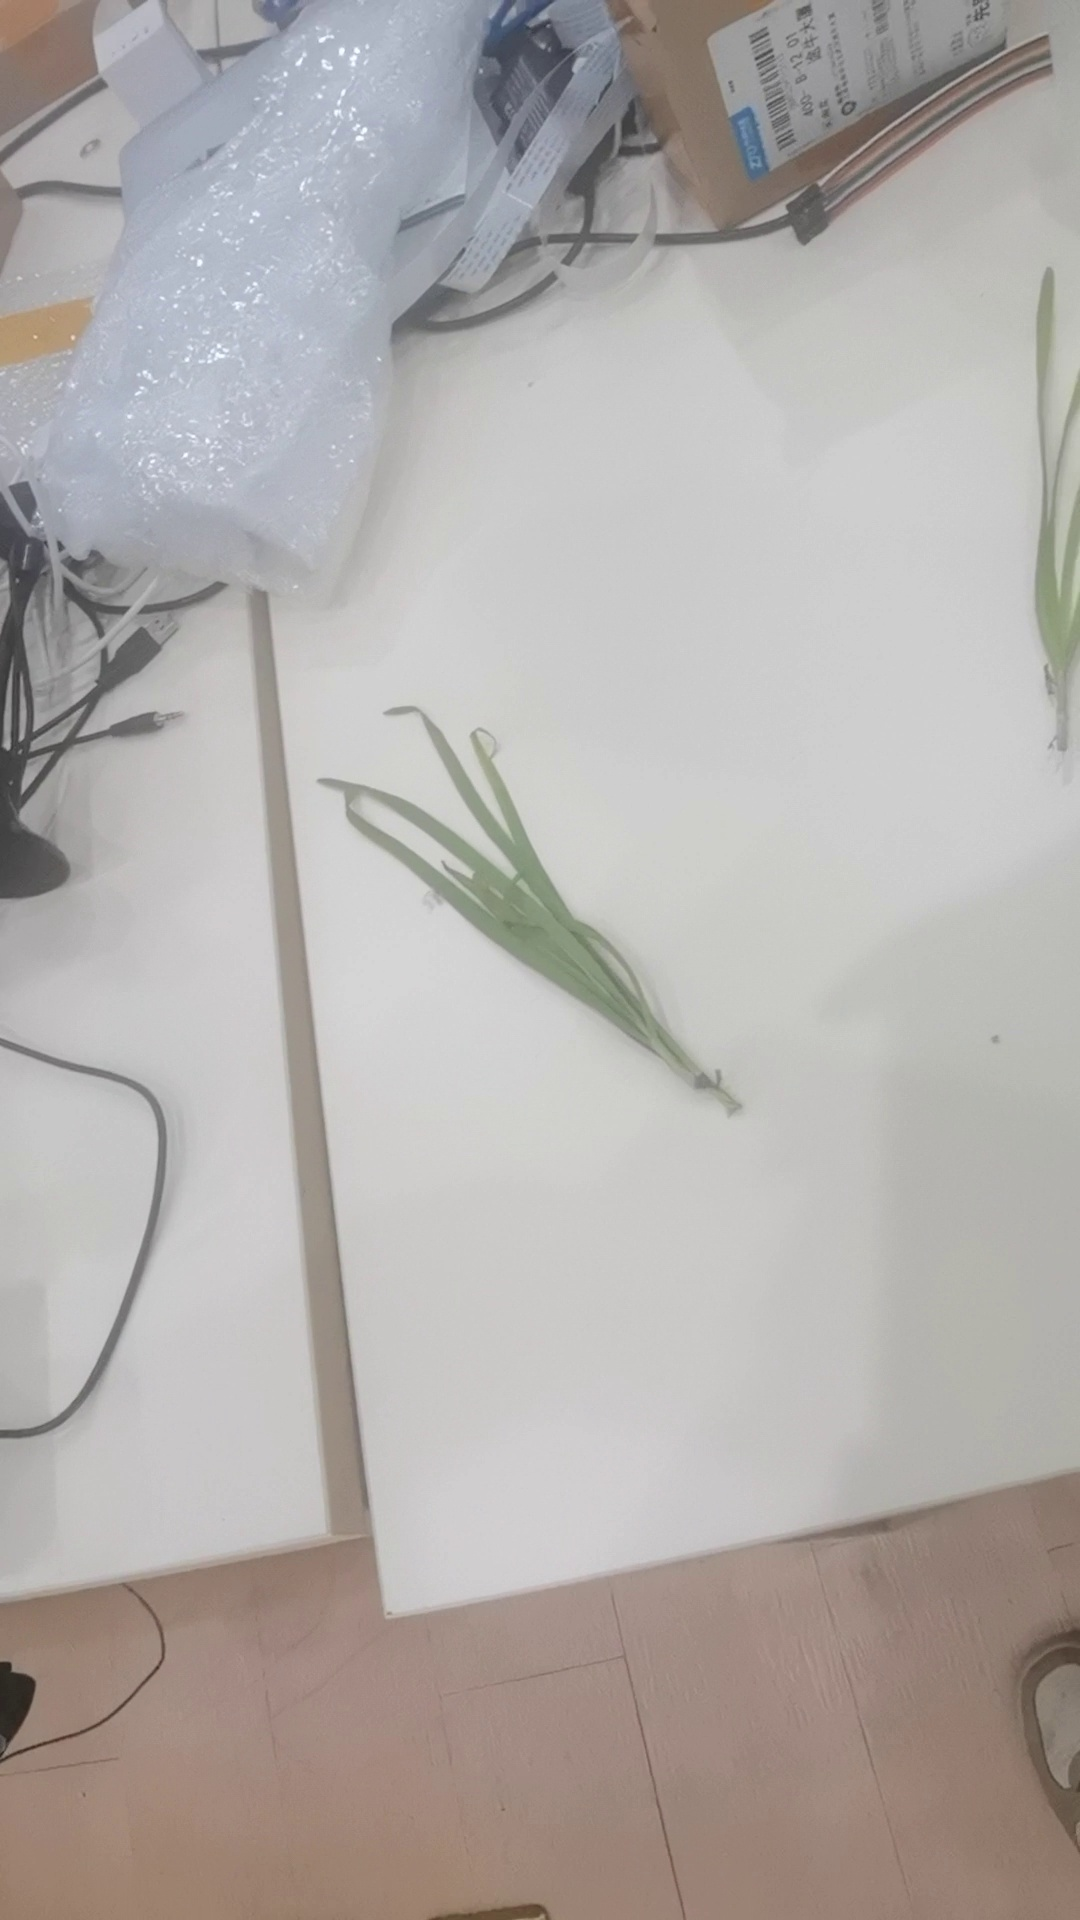chives: (310, 688, 749, 1129)
